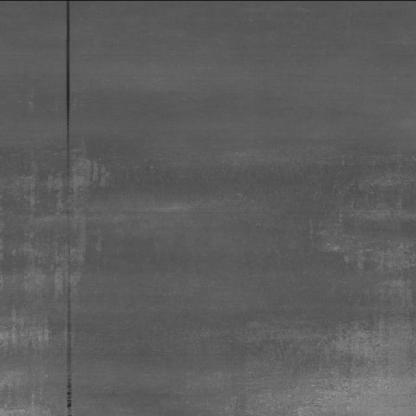crease: (49, 5, 93, 409)
